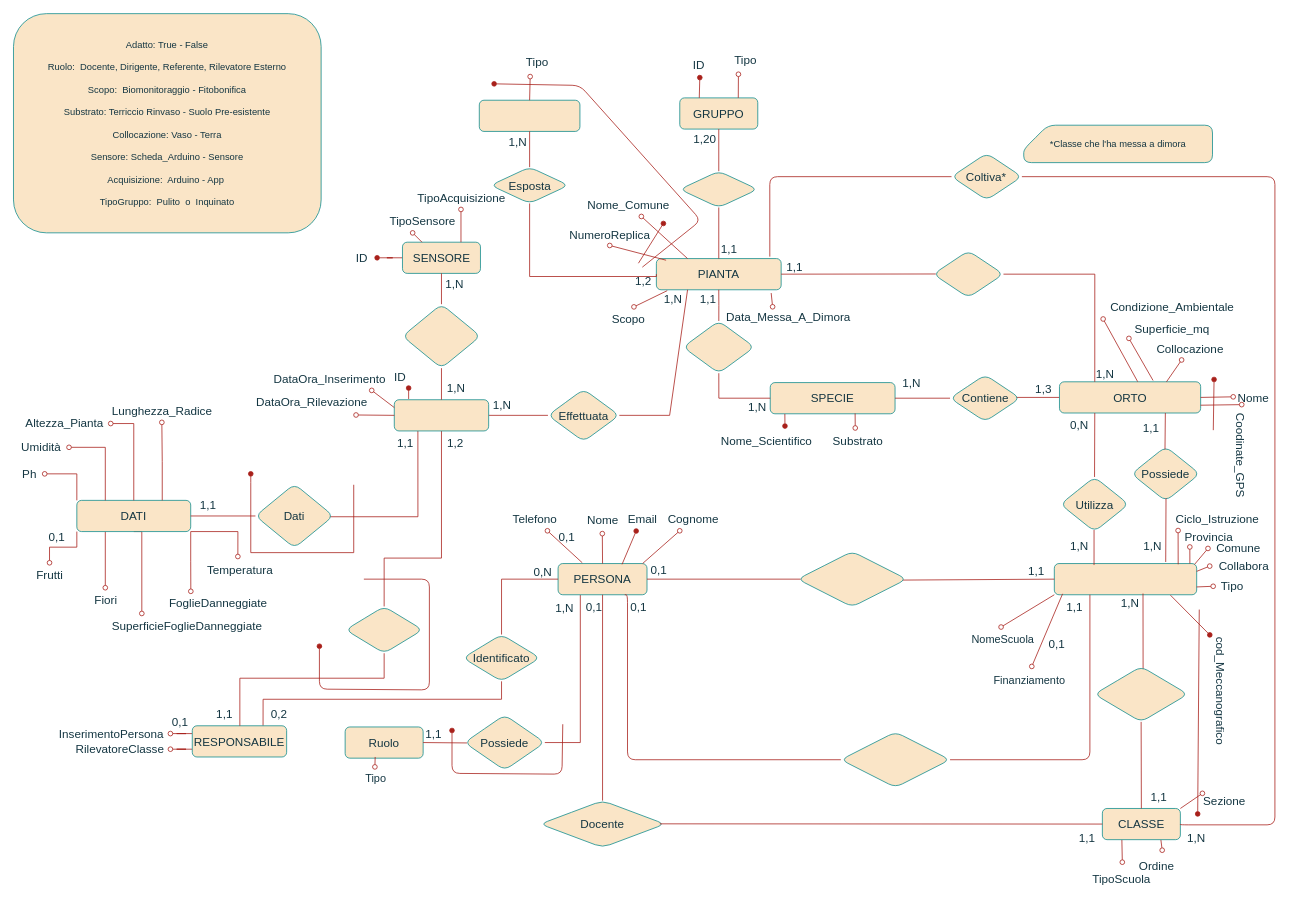
The diagram is 1292 pixels wide and 904 high, and some of its shapes have lost their labels. The shapes that lost their labels are listed below. From the top down, each one's centre as x and y in pixels, then its label:
pixel 529 115: ESPOSIZIONE
pixel 718 188: Contenuta
pixel 967 274: Ospita
pixel 441 335: Rilevata
pixel 718 346: Include
pixel 441 415: RILEVAZIONE
pixel 852 579: Dirigente
pixel 1125 579: SCUOLA
pixel 384 629: Esegue
pixel 1141 694: Afferisce
pixel 895 759: Referente
